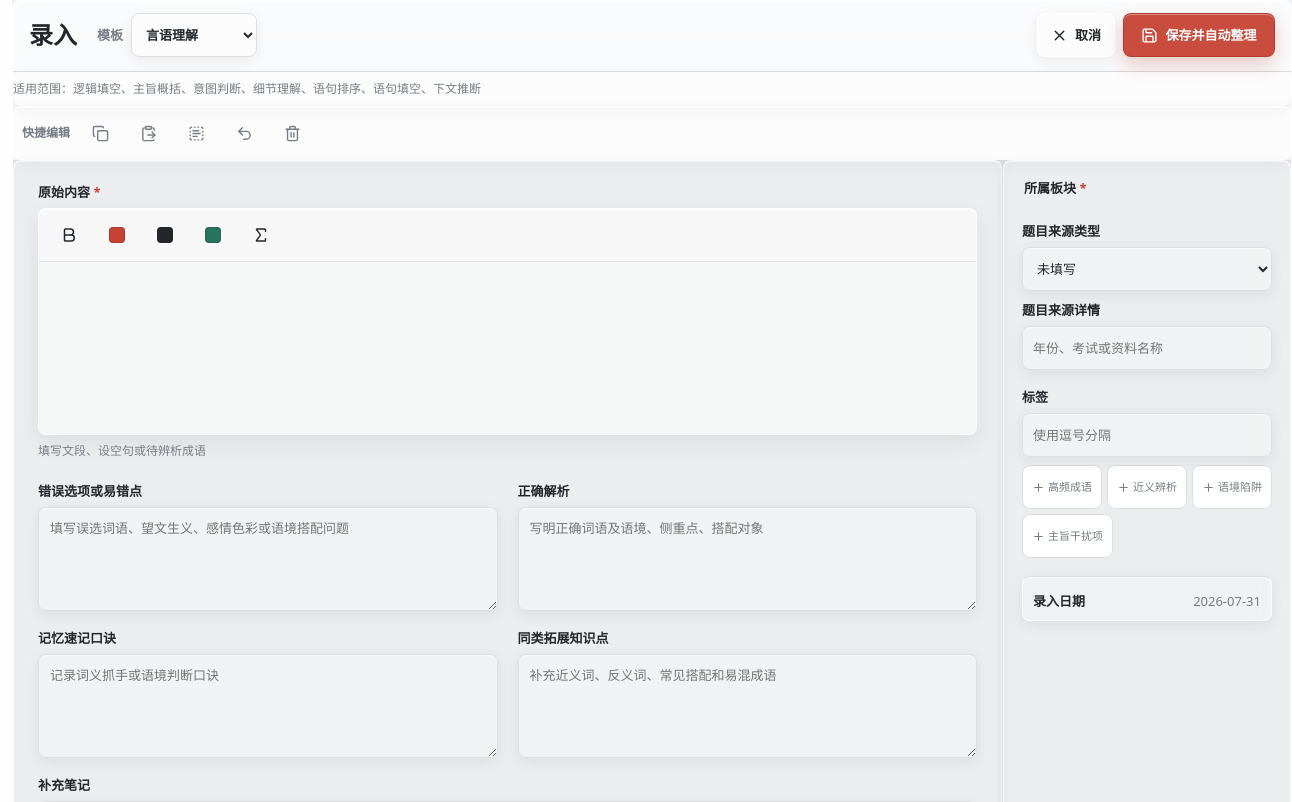
Test: 录入表单 › 快捷工具栏可操作当前普通文本域
Step 1. Type "原有解析" into the text box labelled "正确解析" → (747, 559), box [518,507,977,611]
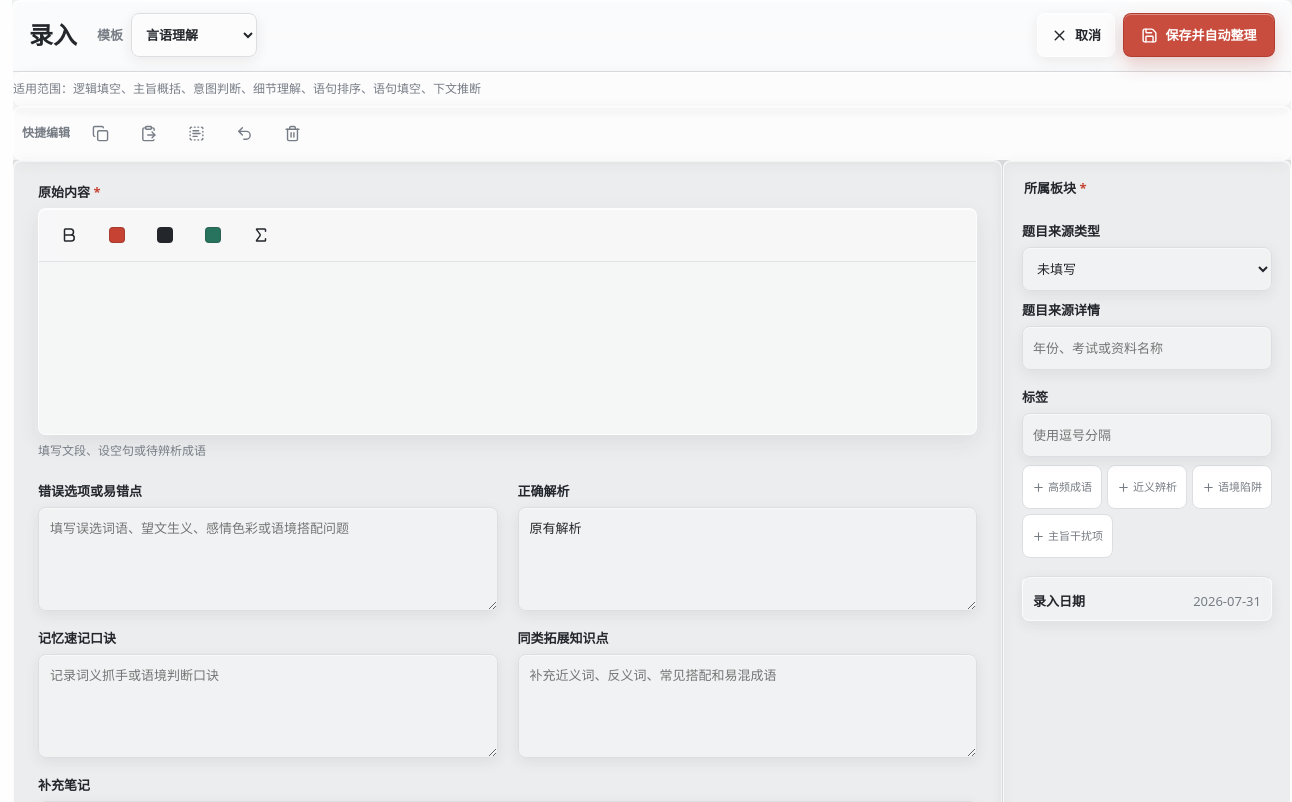
Step 2. Click the button named "复制当前编辑区" → (100, 133), box [78,111,122,155]
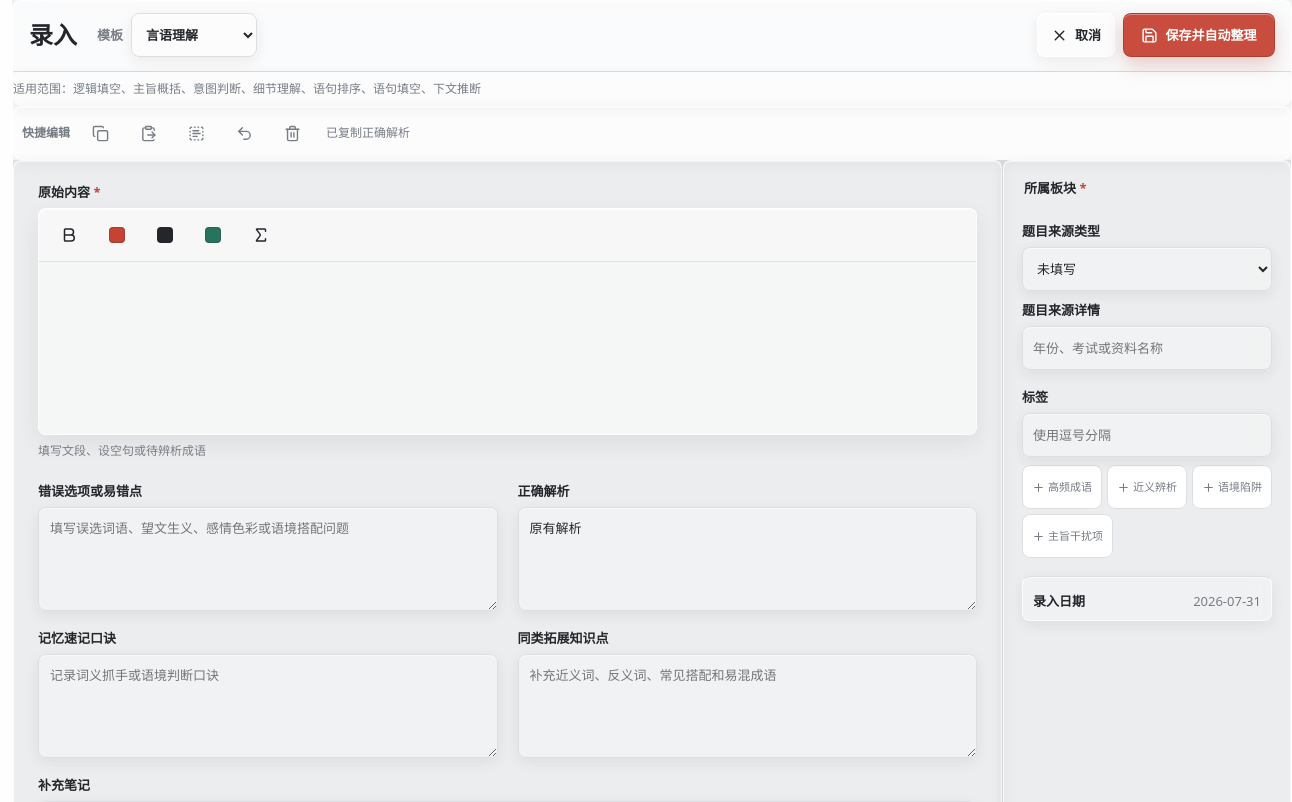
Step 3. Click the button named "全选当前编辑区" → (196, 133), box [174,111,218,155]
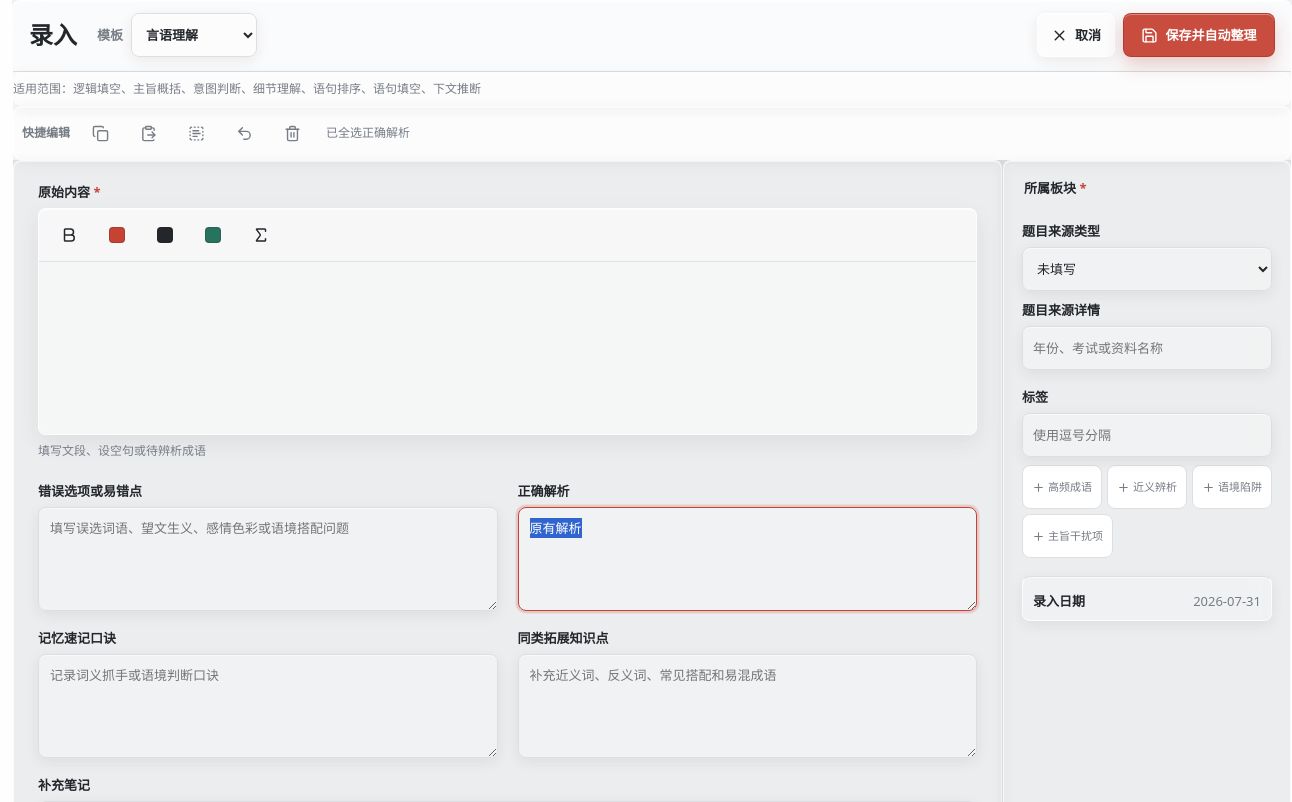
Step 4. Click the button named "清空当前编辑区" → (292, 133), box [270,111,314,155]
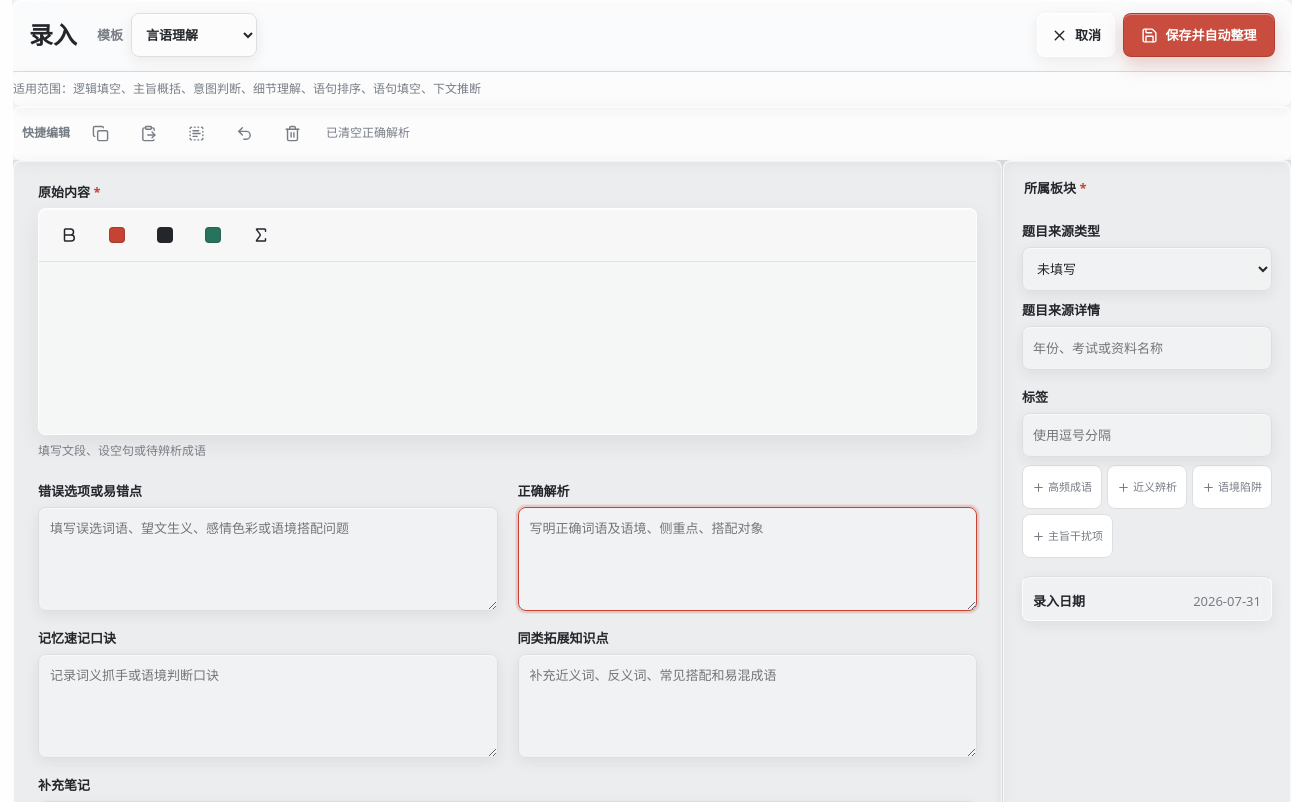
Expected: the text box labelled "正确解析" is empty, [518,507,977,611]
Step 5. Click the button named "撤销当前编辑区" → (244, 133), box [222,111,266,155]
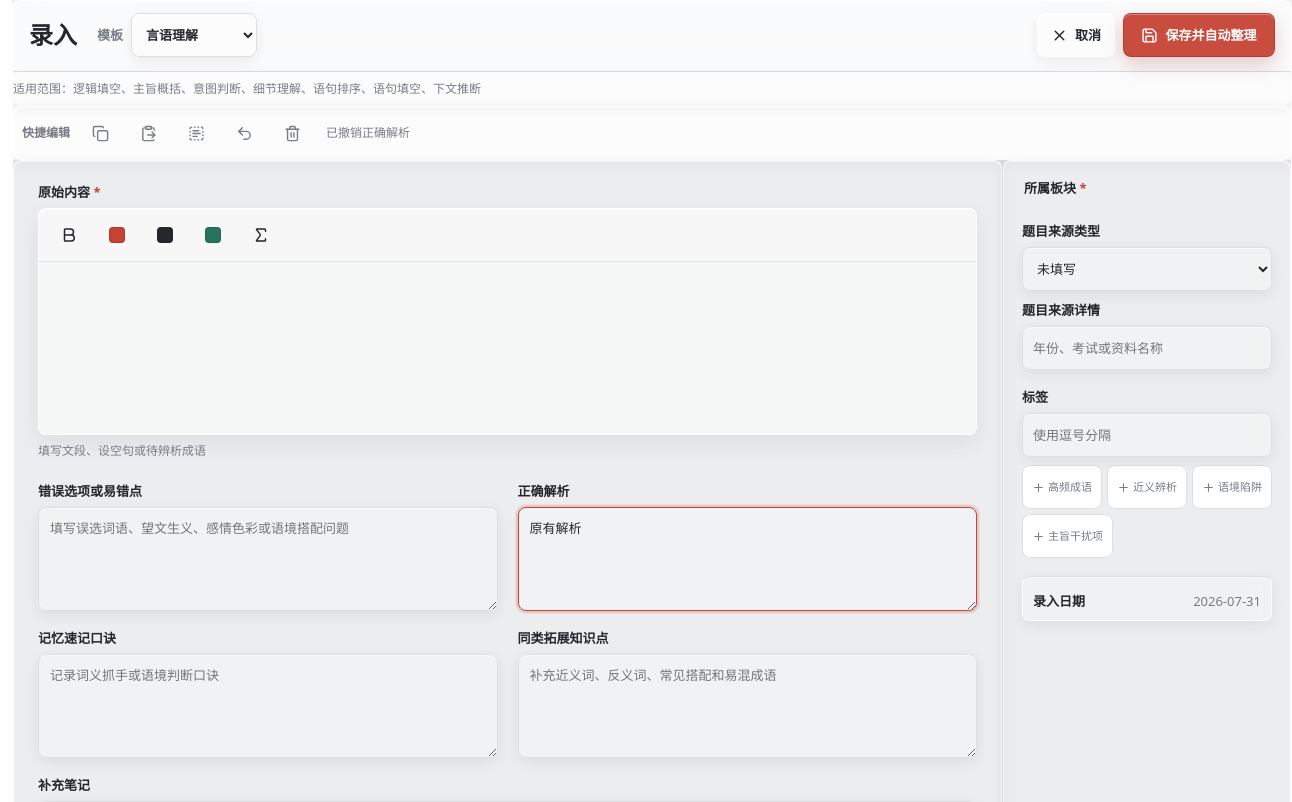
Step 6. Click the button named "粘贴到当前编辑区" → (148, 133), box [126,111,170,155]
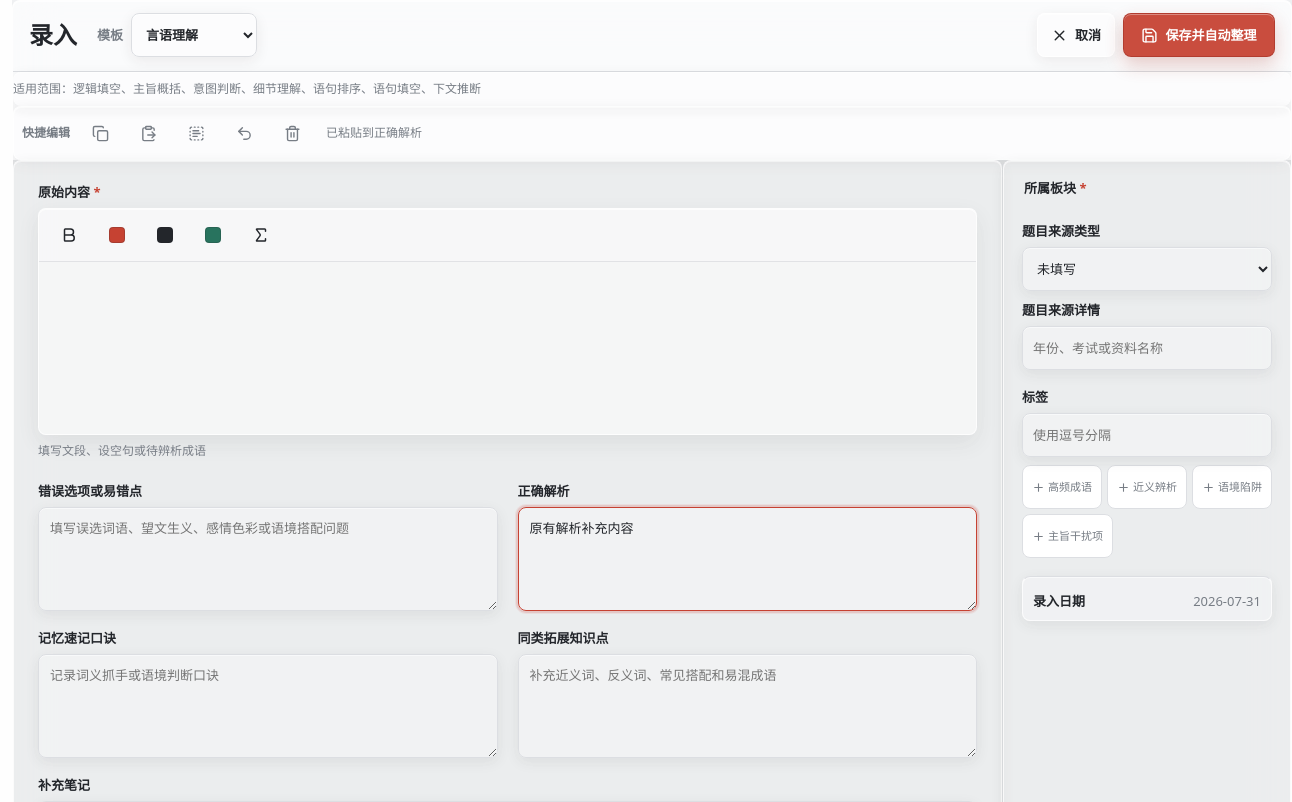
Expected: the text box labelled "正确解析" holds "原有解析补充内容", [518,507,977,611]
